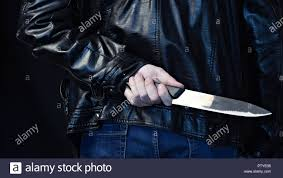knife: (143, 68, 276, 127)
